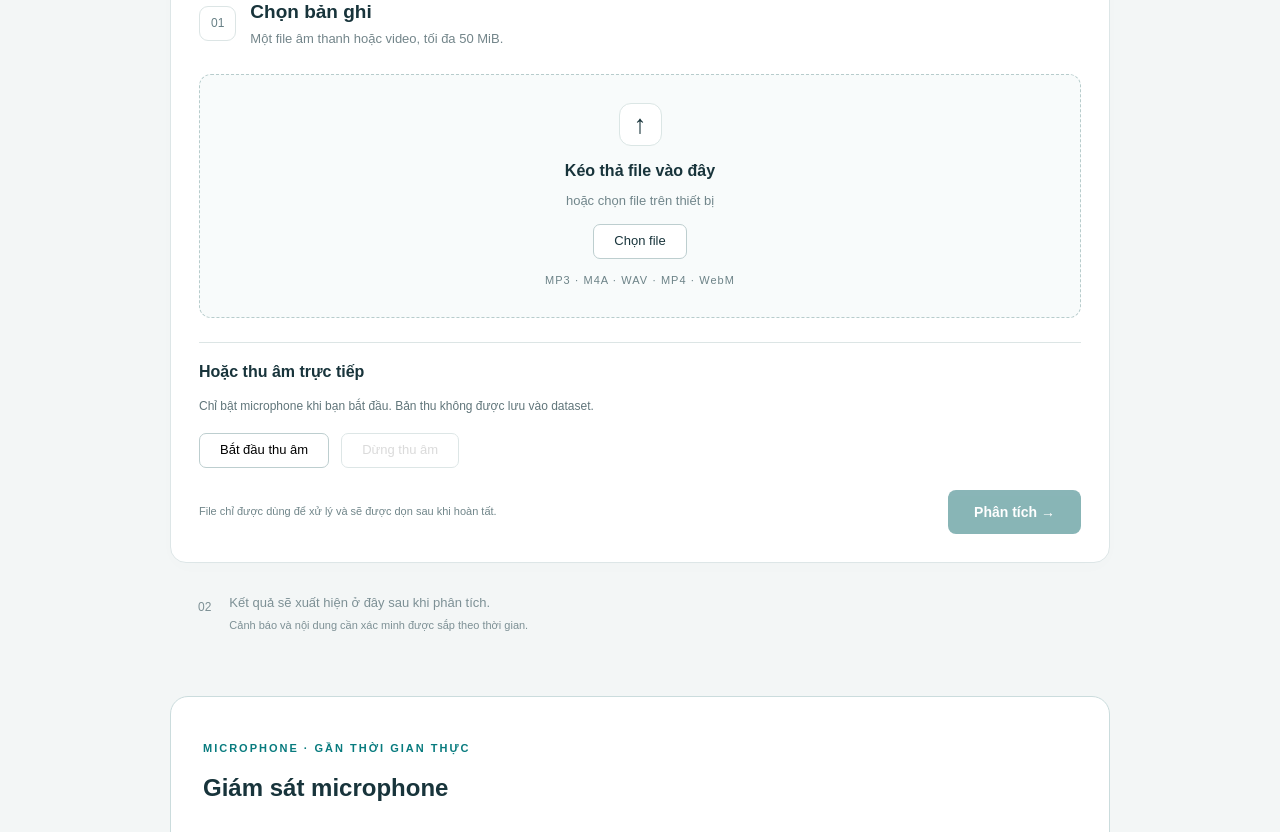
Test: reports NotFoundError
(page scrolled)
Click the button "Bắt đầu thu âm". click: (264, 450)
box: x1=199 y1=433 x2=329 y2=468
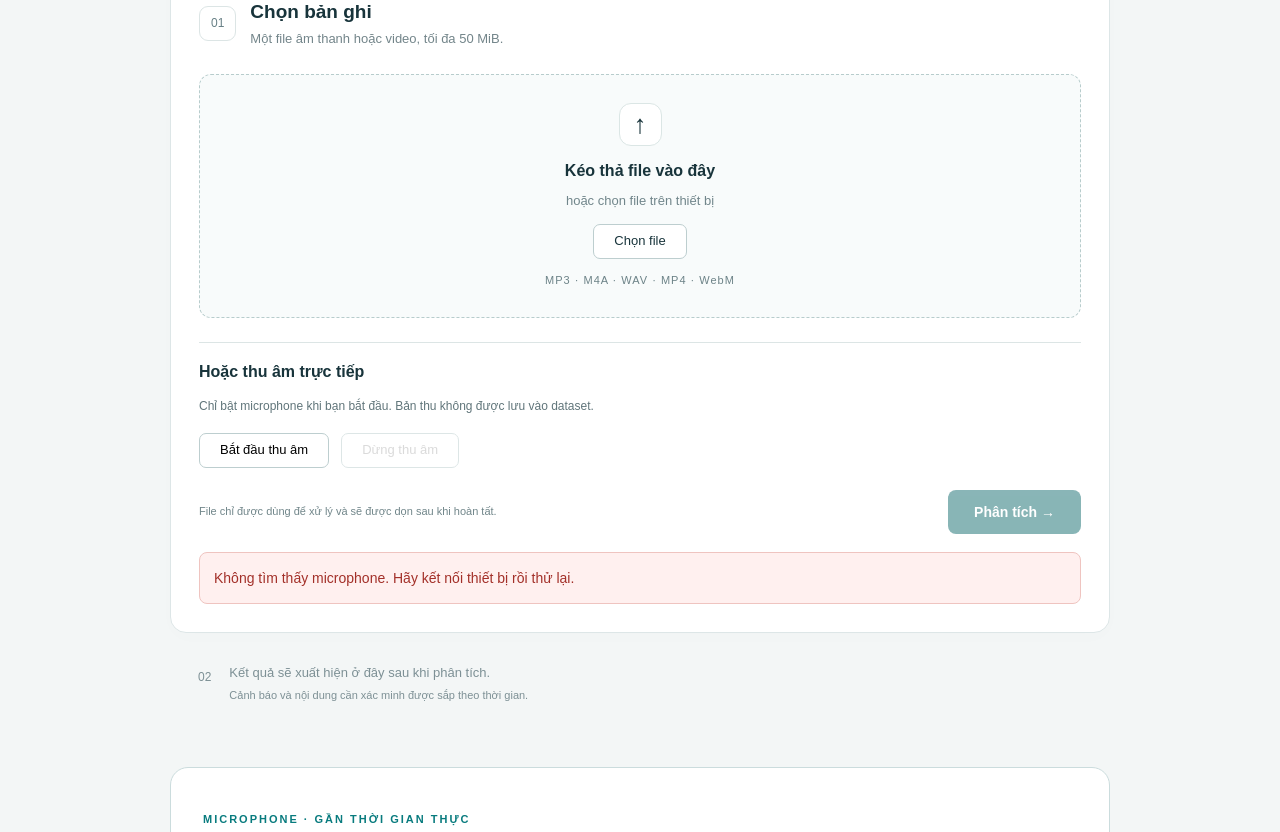
Expected: the text "Không tìm thấy" is shown, x1=214 y1=570 x2=574 y2=586
